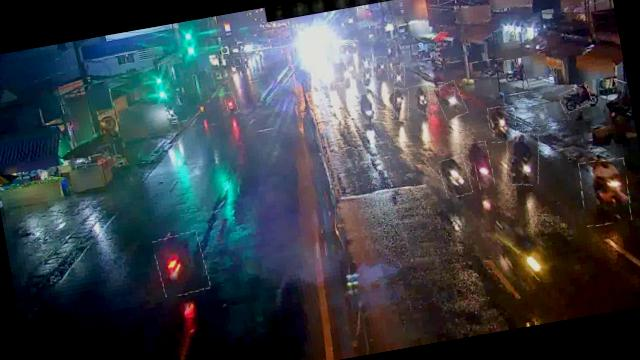Bike: (577, 156, 634, 227), (153, 231, 210, 298), (500, 130, 545, 188), (439, 155, 472, 198), (486, 104, 520, 143), (435, 80, 467, 120), (471, 140, 495, 189), (406, 83, 434, 120), (558, 85, 593, 112), (353, 92, 380, 126), (468, 56, 506, 80), (390, 88, 412, 122), (373, 55, 390, 82), (392, 64, 408, 89), (224, 90, 238, 114), (361, 66, 375, 88)
